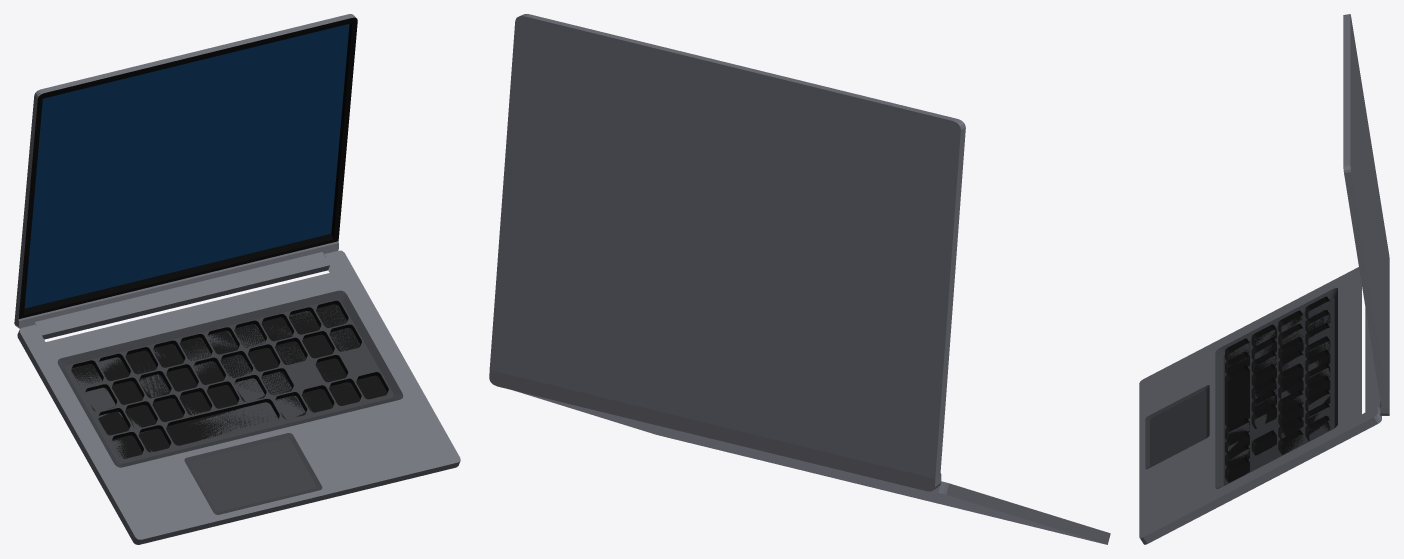
File: inclinedcomputerx.glb
The picture shows the model from 3 angles, left to right: view 1: azimuth 30°, elevation 25°; view 2: azimuth 150°, elevation 25°; view 3: azimuth 270°, elevation 25°; orthographic projection. The views are drawn at different scales.
Parts seen in each view (by area): view 1: Plane.030; view 2: Plane.030; view 3: Plane.030.
Part boxes in pixels (left/top/right/bottom): Plane.030: left=14, top=14, right=460, bottom=544; Plane.030: left=489, top=14, right=1110, bottom=544; Plane.030: left=1139, top=14, right=1389, bottom=544.
Size of the model in its own units: 2.9 by 3.23 by 1.94.
